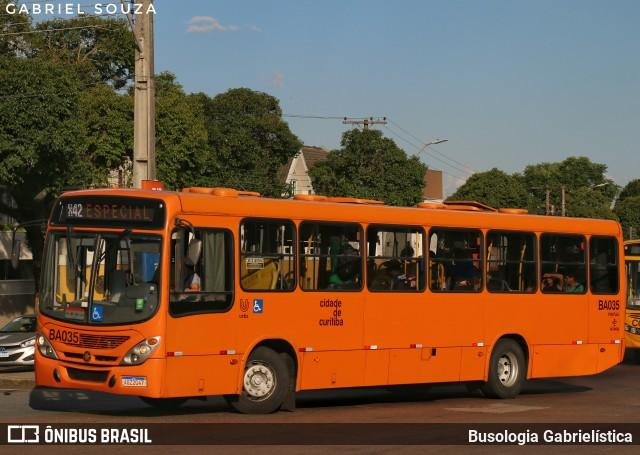ESPECIAL: (84, 200, 152, 222)
